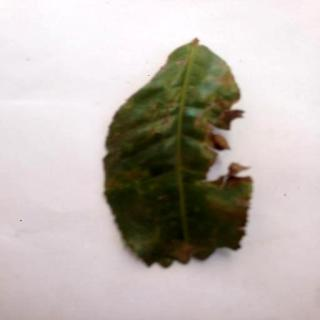Algal Leaf: (104, 39, 257, 269)
